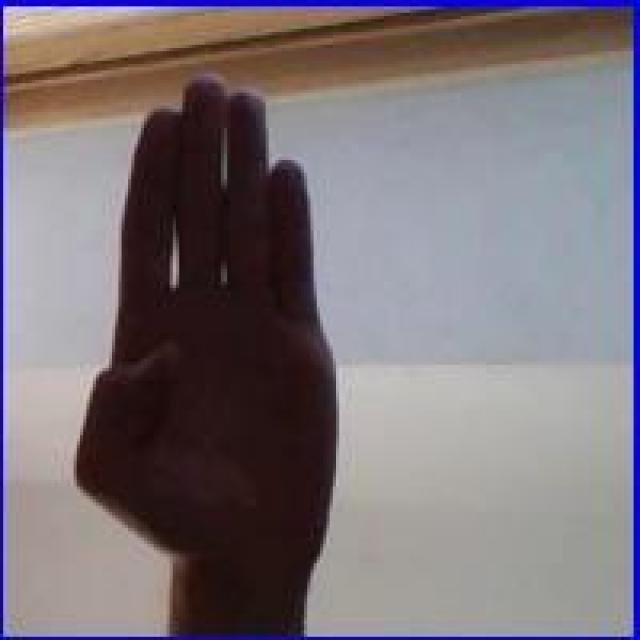B: (66, 67, 347, 595)
